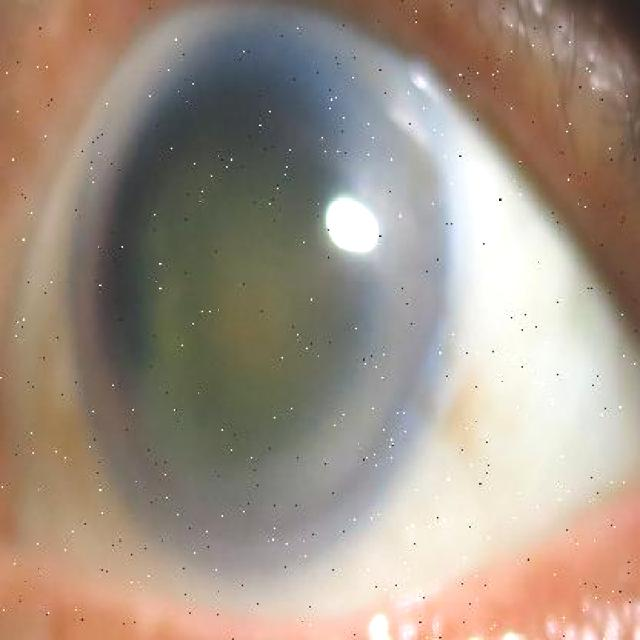Cataract: (66, 0, 457, 603)
